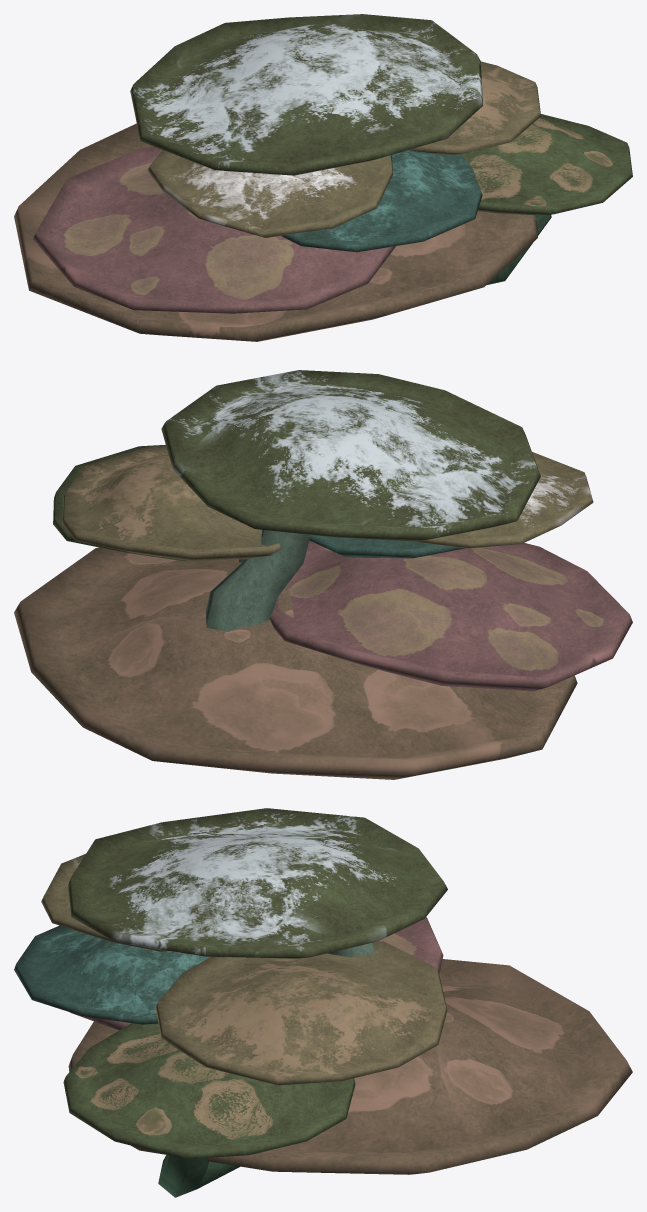
Rendered from Tree_Mushrooms.FBX.
The picture shows the model from 3 angles, top to bottom: view 1: azimuth 30°, elevation 25°; view 2: azimuth 150°, elevation 25°; view 3: azimuth 270°, elevation 25°; orthographic projection. The views are drawn at different scales.
Visible parts, largest first — view 1: Line038, Line035, Line034, Line037, Line040, Line036, Line039, Line043; view 2: Line034, Line038, Line035, Line039, Line044, Line037, Line036, Line040; view 3: Line038, Line034, Line039, Line040, Line036, Line043, Line037, Line035.
Part boxes in pixels (x1=…): Line038: x1=130, y1=14, x2=483, y2=175; Line035: x1=33, y1=146, x2=395, y2=313; Line034: x1=14, y1=123, x2=537, y2=341; Line037: x1=147, y1=150, x2=393, y2=238; Line040: x1=461, y1=114, x2=632, y2=215; Line036: x1=281, y1=150, x2=482, y2=252; Line039: x1=409, y1=61, x2=540, y2=154; Line043: x1=486, y1=214, x2=551, y2=285; Line034: x1=14, y1=547, x2=577, y2=779; Line038: x1=161, y1=370, x2=540, y2=541; Line035: x1=270, y1=540, x2=632, y2=691; Line039: x1=62, y1=445, x2=280, y2=561; Line044: x1=205, y1=529, x2=310, y2=631; Line037: x1=417, y1=452, x2=593, y2=548; Line036: x1=309, y1=535, x2=464, y2=558; Line040: x1=53, y1=444, x2=187, y2=561; Line038: x1=68, y1=808, x2=447, y2=958; Line034: x1=68, y1=959, x2=632, y2=1174; Line039: x1=155, y1=941, x2=447, y2=1085; Line040: x1=63, y1=1023, x2=355, y2=1159; Line036: x1=14, y1=925, x2=210, y2=1024; Line043: x1=158, y1=1155, x2=239, y2=1197; Line037: x1=41, y1=854, x2=168, y2=951; Line035: x1=70, y1=917, x2=443, y2=1030.
Size of the model in its own units: 93.12 by 43.81 by 85.02.
